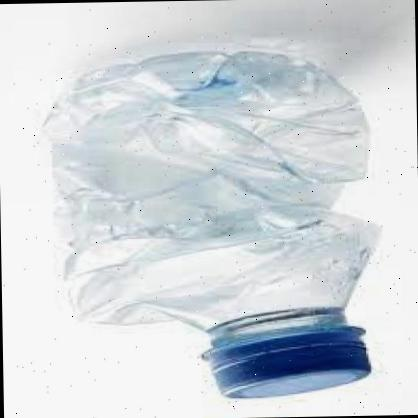bottle: (28, 41, 388, 408)
cap: (190, 323, 374, 405)
